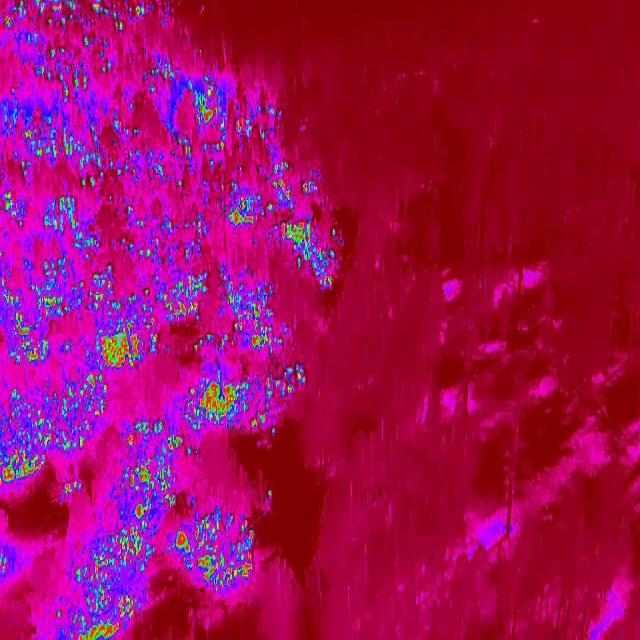fire: (140, 59, 345, 292), (0, 2, 140, 108), (0, 372, 110, 500), (158, 268, 296, 364), (0, 115, 132, 193), (172, 368, 310, 434), (170, 504, 266, 598), (83, 264, 165, 374), (2, 260, 78, 369), (122, 417, 187, 521), (72, 516, 156, 592), (37, 195, 100, 263), (55, 592, 143, 640), (0, 554, 10, 577), (265, 487, 275, 501)
